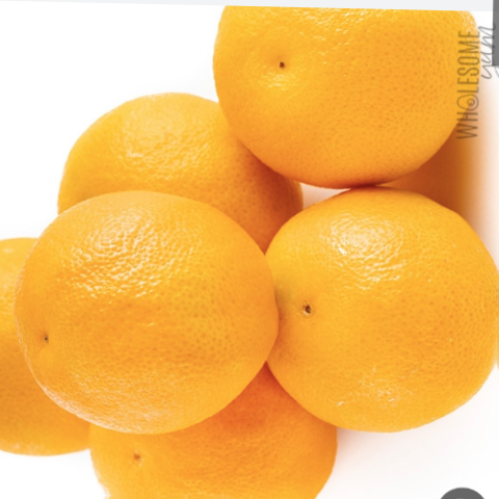orange: (250, 146, 498, 448), (13, 171, 282, 446), (168, 0, 481, 196)
